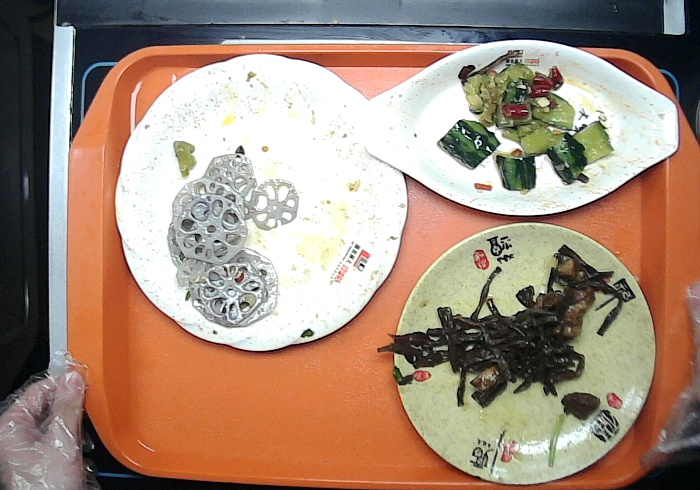NLDX-Bai_Zhe_Yuan_Pan: (102, 52, 415, 360)
NLDX-Fu_Zi_Yuan_Pan: (390, 211, 659, 490)
NLDX-Yu_Pan: (357, 35, 690, 222)
